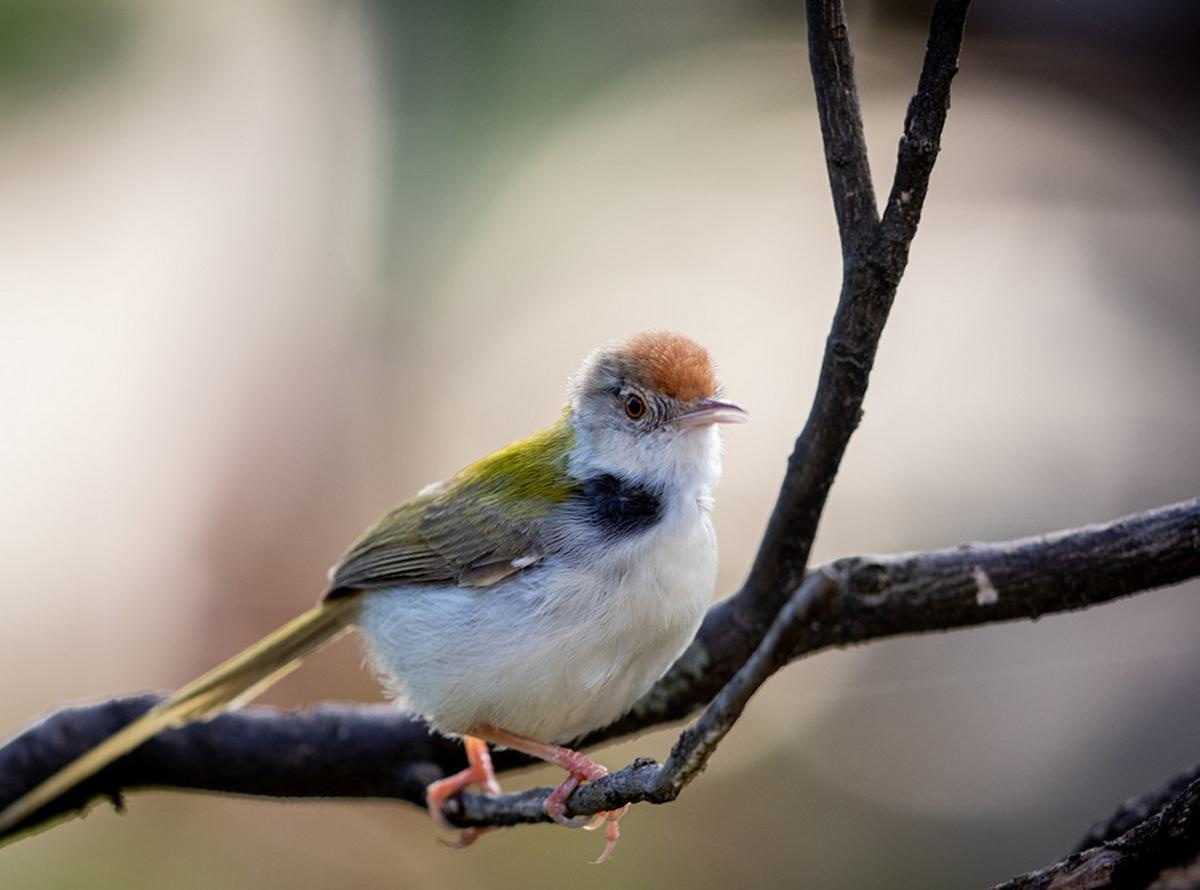tailorbird: (20, 322, 759, 849)
